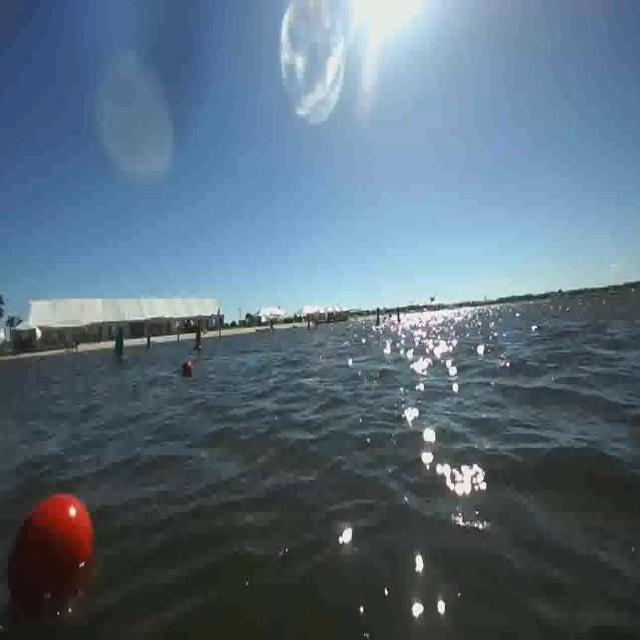green-column-buoy: (112, 327, 127, 365)
red-buoy: (8, 496, 90, 613), (182, 359, 192, 373)
